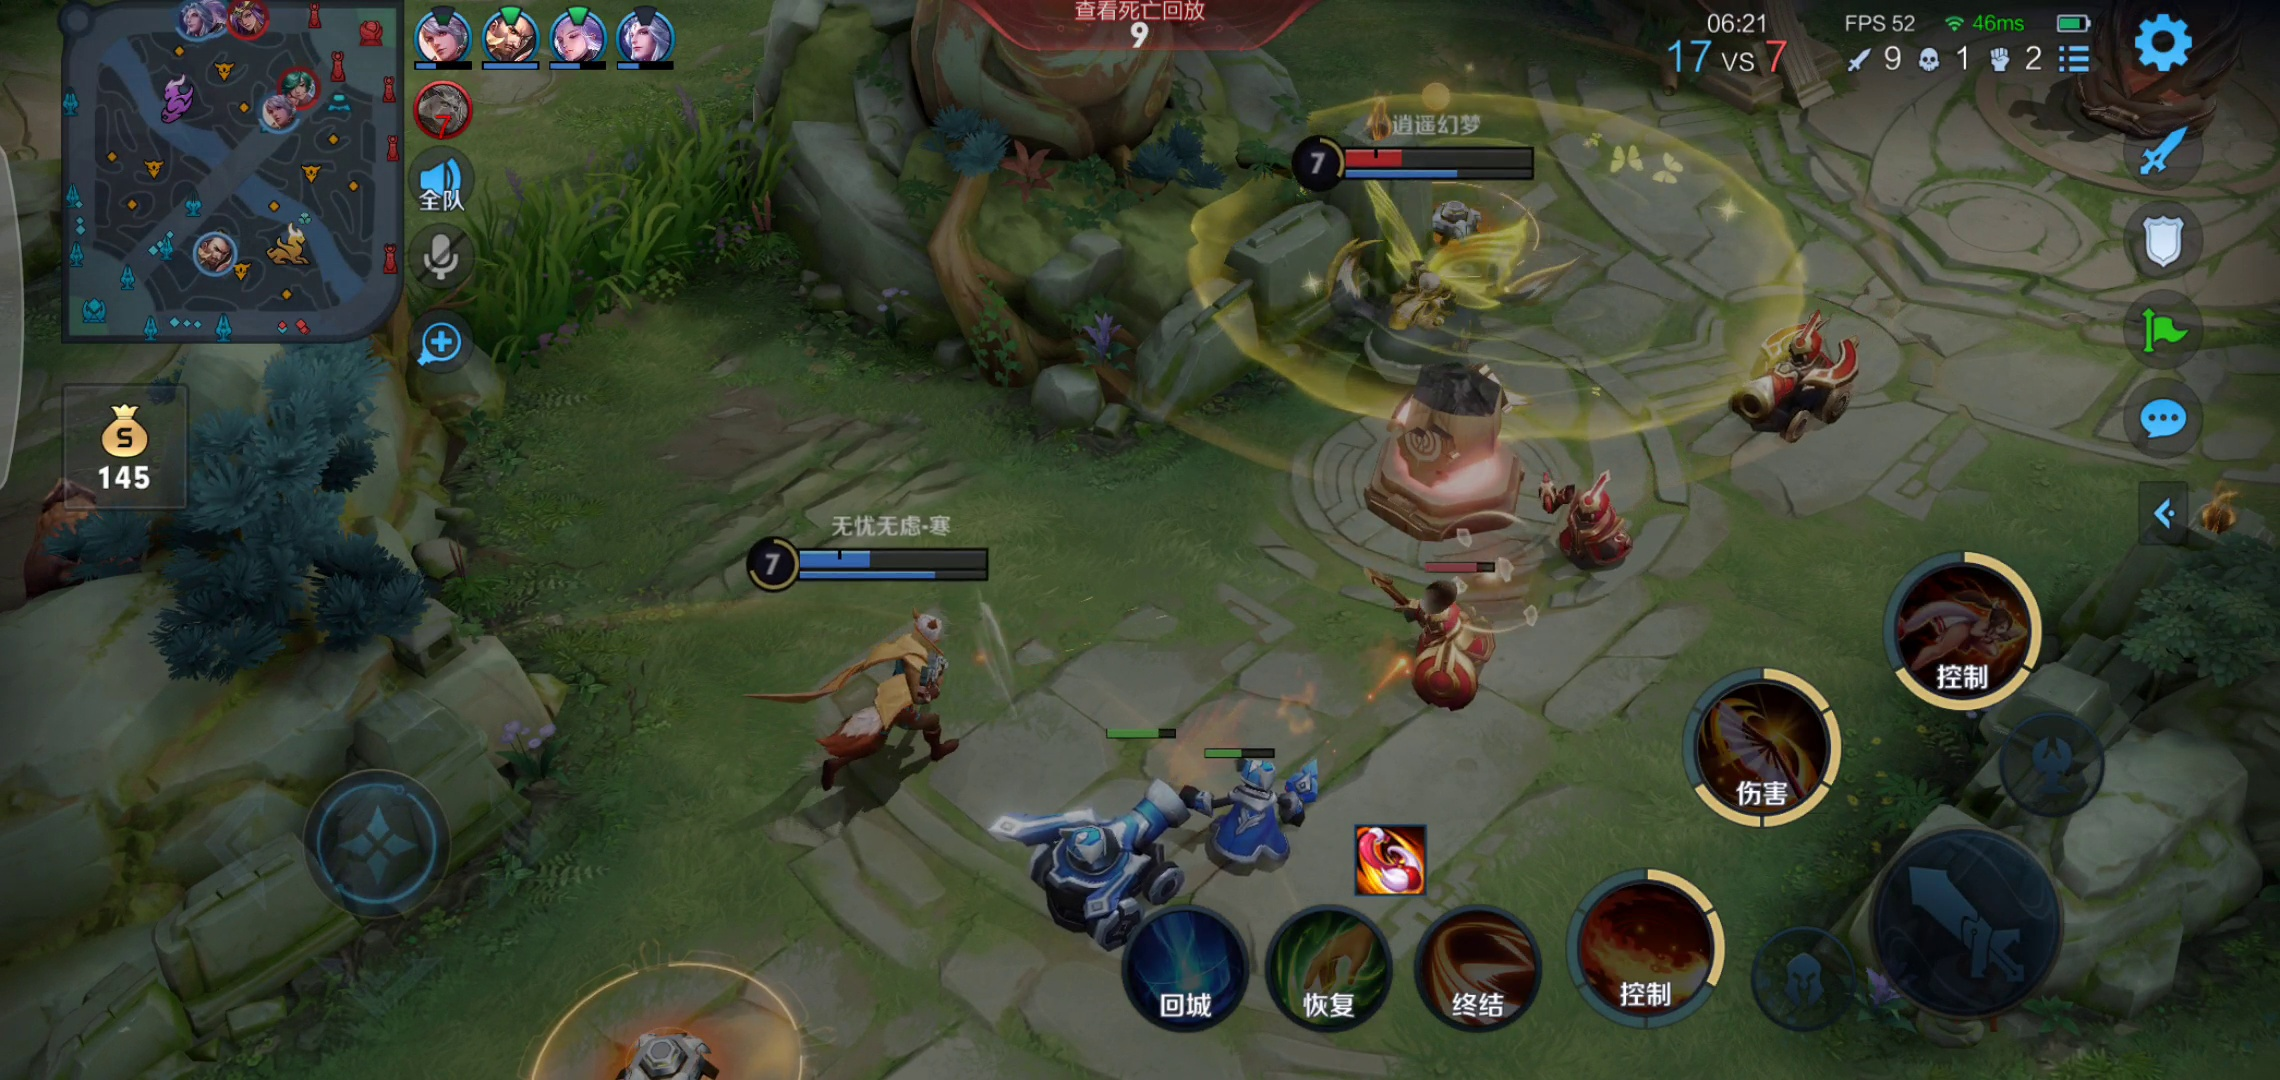grass: (432, 116, 774, 342)
hero: (766, 605, 1013, 778), (1307, 201, 1538, 356)
soldier: (1000, 785, 1189, 940), (1730, 299, 1879, 455), (1362, 571, 1514, 711), (1207, 751, 1336, 879), (1531, 467, 1658, 579)
tower: (1364, 362, 1525, 532)
